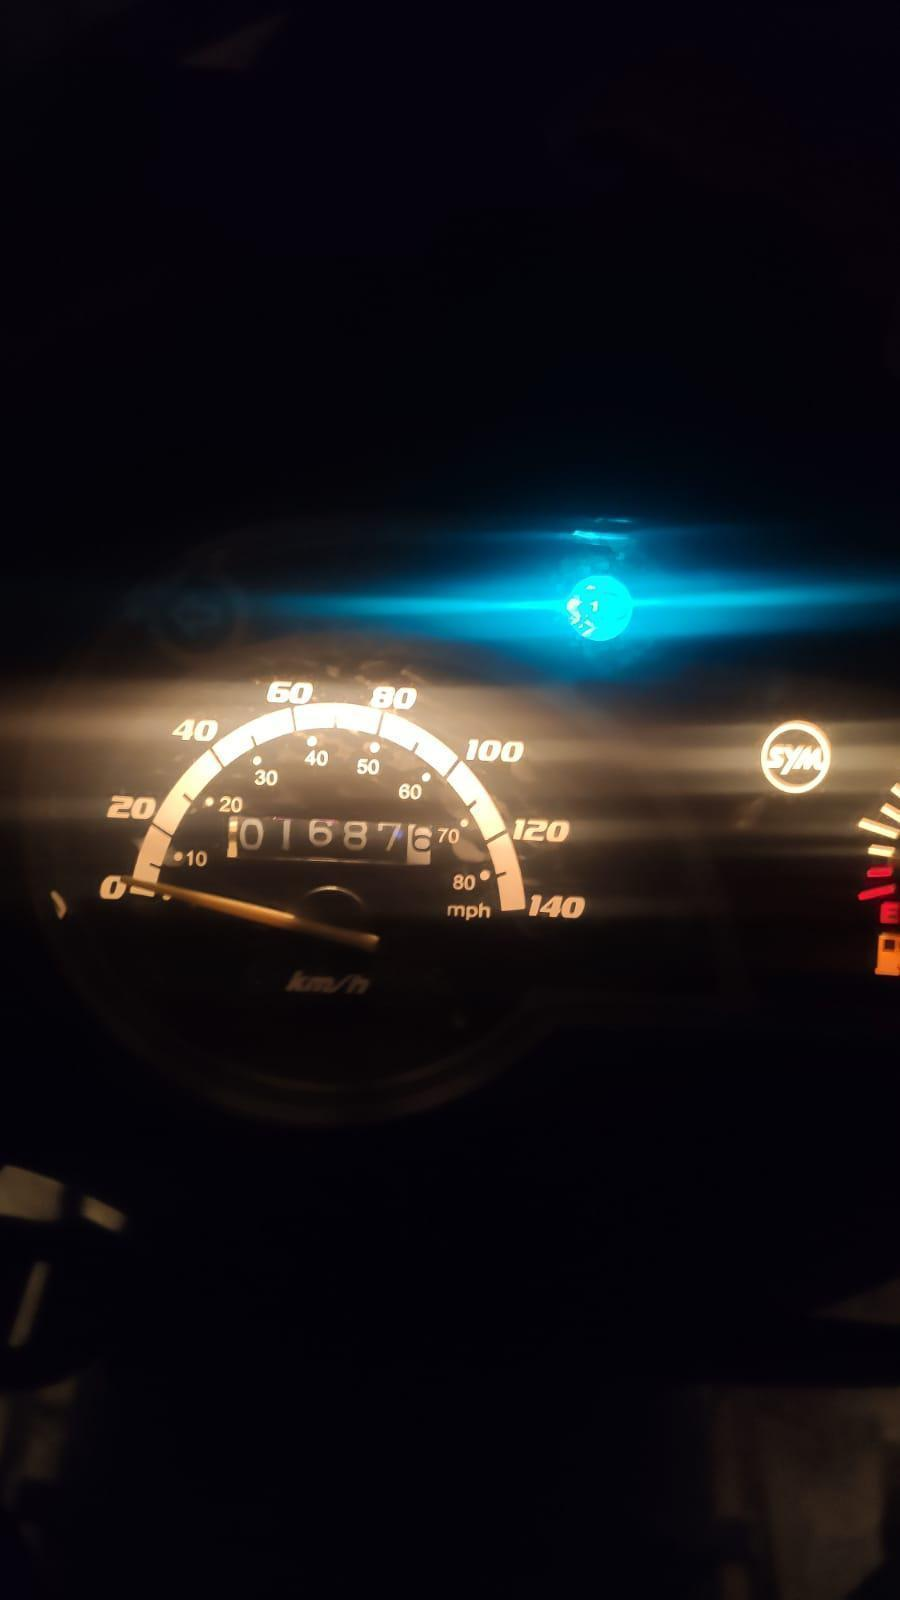0: (237, 815, 268, 851)
1: (277, 815, 296, 855)
6: (305, 814, 337, 846), (410, 821, 433, 856)
7: (374, 819, 402, 851)
8: (343, 816, 368, 852)
odometer: (216, 811, 438, 871)
